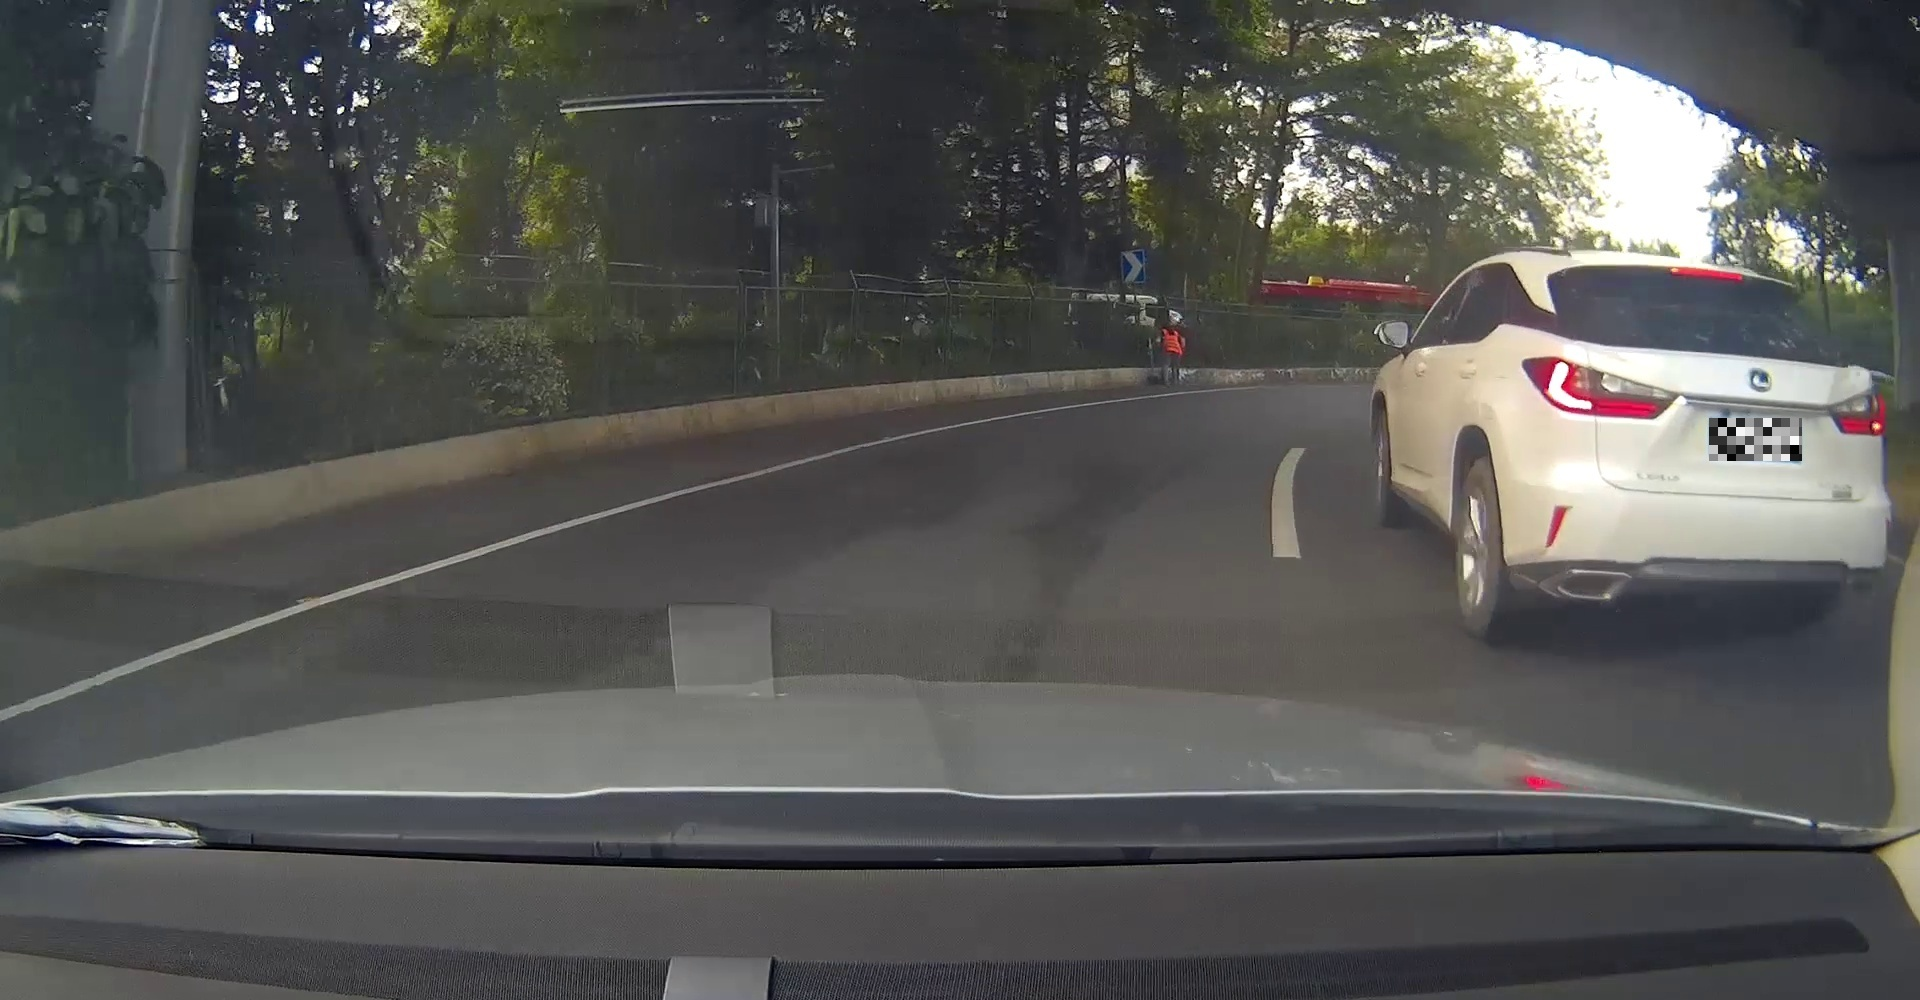L_light: (1521, 357, 1677, 419)
R_light: (1829, 385, 1884, 434)
T_light: (1671, 266, 1742, 279)
day-brake: (1514, 259, 1888, 645)
plate_1: (1709, 418, 1802, 461)
